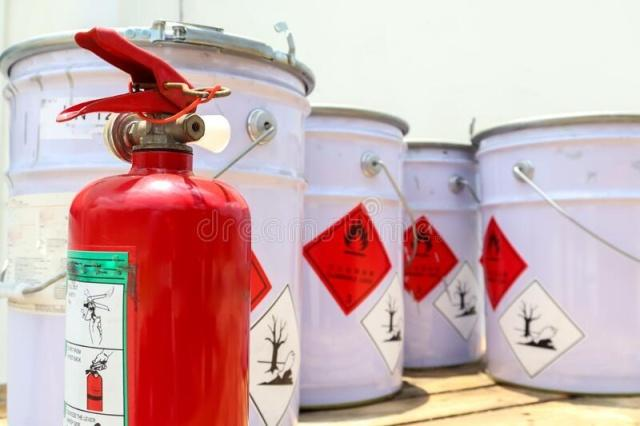APAR: (59, 27, 252, 425)
